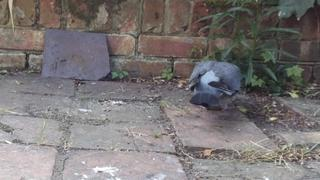wood pigeon: (188, 60, 242, 112)
